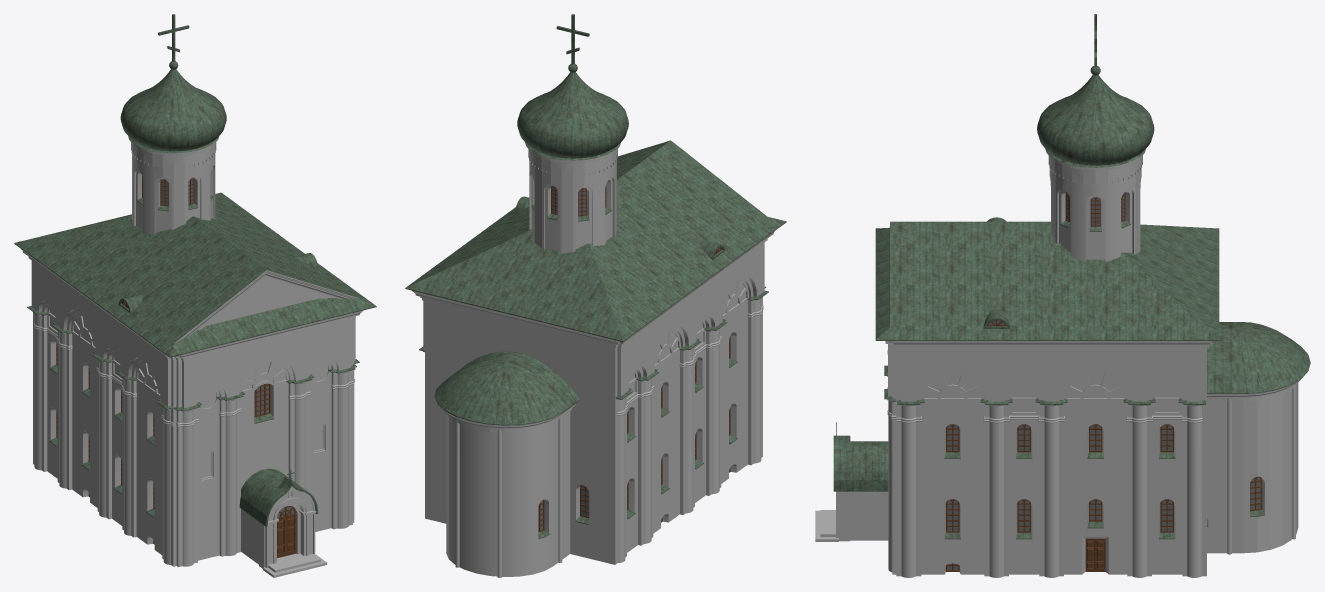
Rendered from spaskaja.glb.
3 views of the same model, side by side, from view 1: azimuth 30°, elevation 25°; view 2: azimuth 150°, elevation 25°; view 3: azimuth 270°, elevation 25° (orthographic). The views are drawn at different scales.
Parts seen in each view (by area): view 1: polacak.001_polacak.003, polacak.001_polacak.001, polacak.001_polacak.002, polacak.001_polacak.004; view 2: polacak.001_polacak.003, polacak.001_polacak.001, polacak.001_polacak.002, polacak.001_polacak.004; view 3: polacak.001_polacak.003, polacak.001_polacak.001, polacak.001_polacak.002, polacak.001_polacak.004.
Boxes of the visible parts, <box> form: polacak.001_polacak.003: <box>21,136,363,577</box>; polacak.001_polacak.001: <box>14,14,376,526</box>; polacak.001_polacak.002: <box>56,176,296,558</box>; polacak.001_polacak.004: <box>123,178,294,517</box>; polacak.001_polacak.003: <box>412,142,774,577</box>; polacak.001_polacak.001: <box>405,14,786,538</box>; polacak.001_polacak.002: <box>538,185,730,532</box>; polacak.001_polacak.004: <box>538,186,729,530</box>; polacak.001_polacak.003: <box>815,148,1300,577</box>; polacak.001_polacak.001: <box>833,14,1310,539</box>; polacak.001_polacak.002: <box>946,192,1262,571</box>; polacak.001_polacak.004: <box>947,193,1260,570</box>.
Size of the model in its own units: 11.51 by 24.65 by 21.57.
4 materials, 3 textured.
